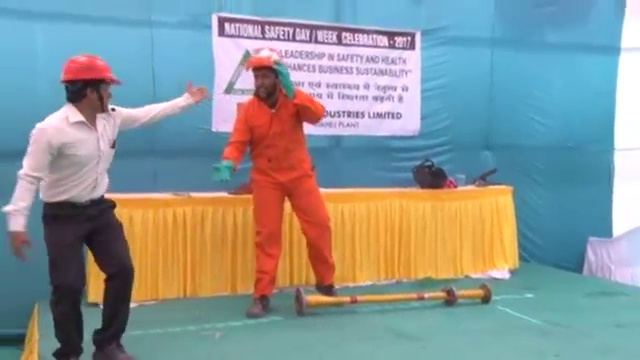helmet: (59, 52, 124, 89), (243, 42, 281, 71)
helmet_on: (57, 50, 124, 117), (241, 41, 284, 101)
person: (2, 50, 203, 360), (222, 38, 340, 309)
